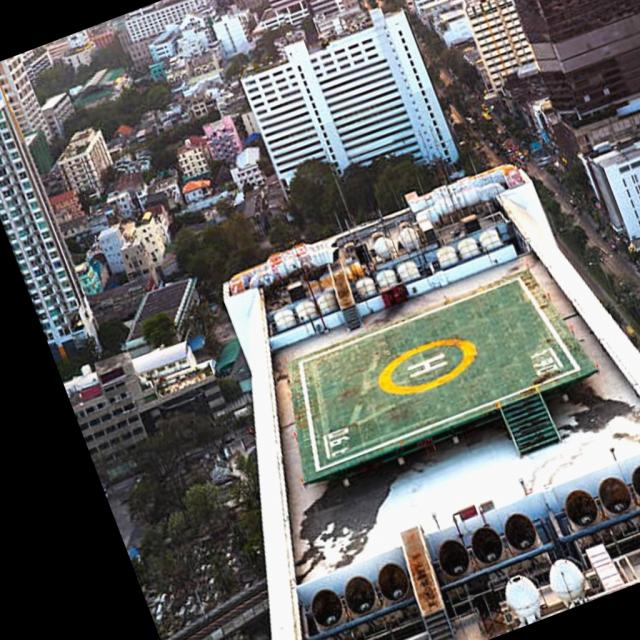helipad: (372, 335, 479, 397)
